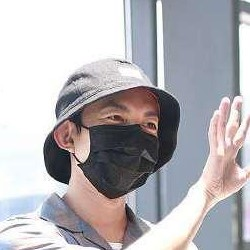mask: (70, 117, 170, 199)
